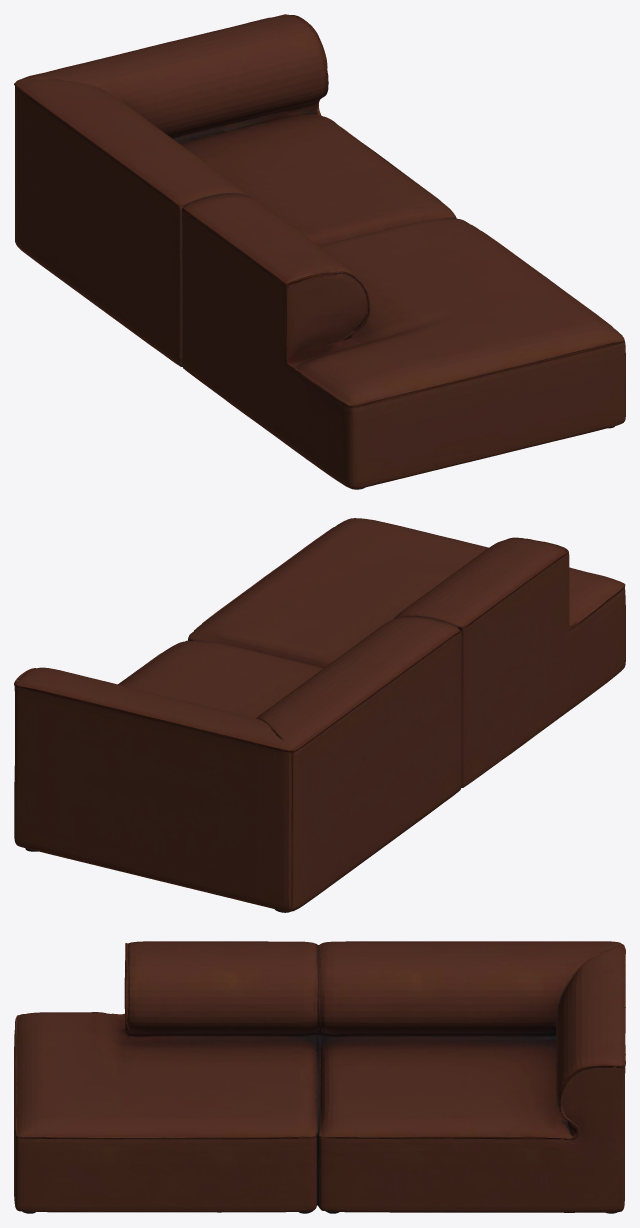
The picture shows the model from 3 angles, top to bottom: view 1: azimuth 30°, elevation 25°; view 2: azimuth 150°, elevation 25°; view 3: azimuth 270°, elevation 25°; orthographic projection. The views are drawn at different scales.
Visible parts, largest first — view 1: tripo_node_38510bc5-f8fd-43c9-9861-fa2815d65dca; view 2: tripo_node_38510bc5-f8fd-43c9-9861-fa2815d65dca; view 3: tripo_node_38510bc5-f8fd-43c9-9861-fa2815d65dca.
Boxes of the visible parts, bbox=[...] form: tripo_node_38510bc5-f8fd-43c9-9861-fa2815d65dca: bbox=[14, 14, 625, 489]; tripo_node_38510bc5-f8fd-43c9-9861-fa2815d65dca: bbox=[14, 518, 625, 912]; tripo_node_38510bc5-f8fd-43c9-9861-fa2815d65dca: bbox=[14, 941, 625, 1213].
Size of the model in its own units: 0.4833 by 0.2815 by 1.
1 material, 1 textured.
